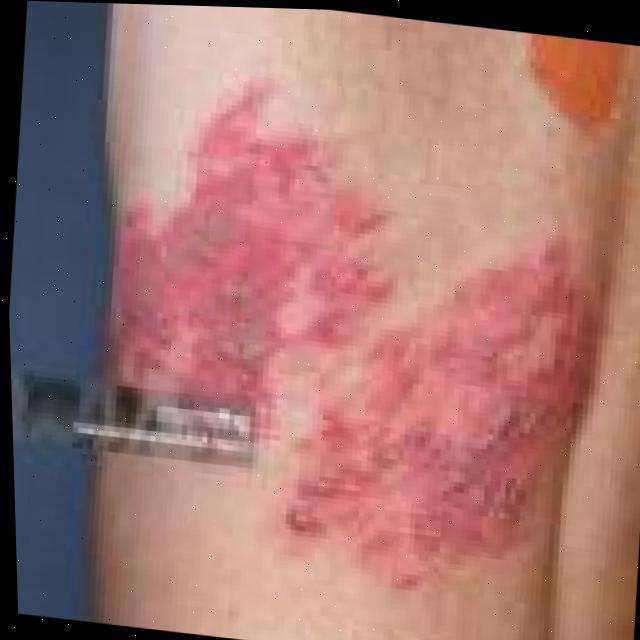Shingles: (298, 225, 593, 578), (113, 124, 303, 364)
